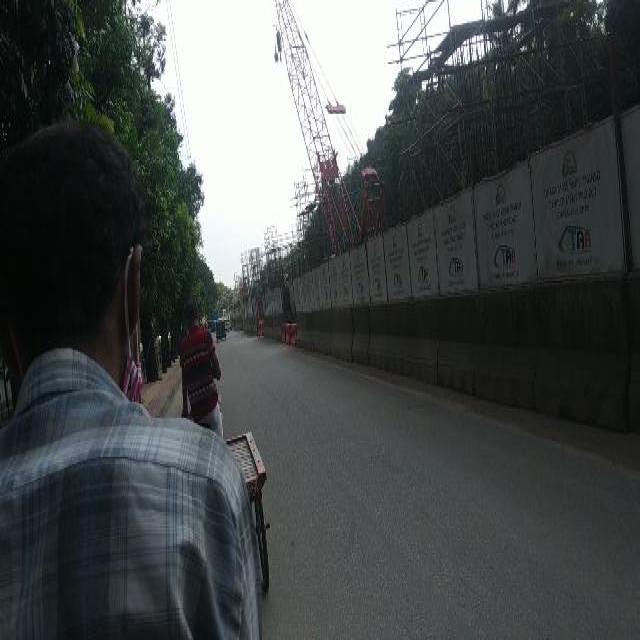vehicle: (215, 319, 228, 342)
